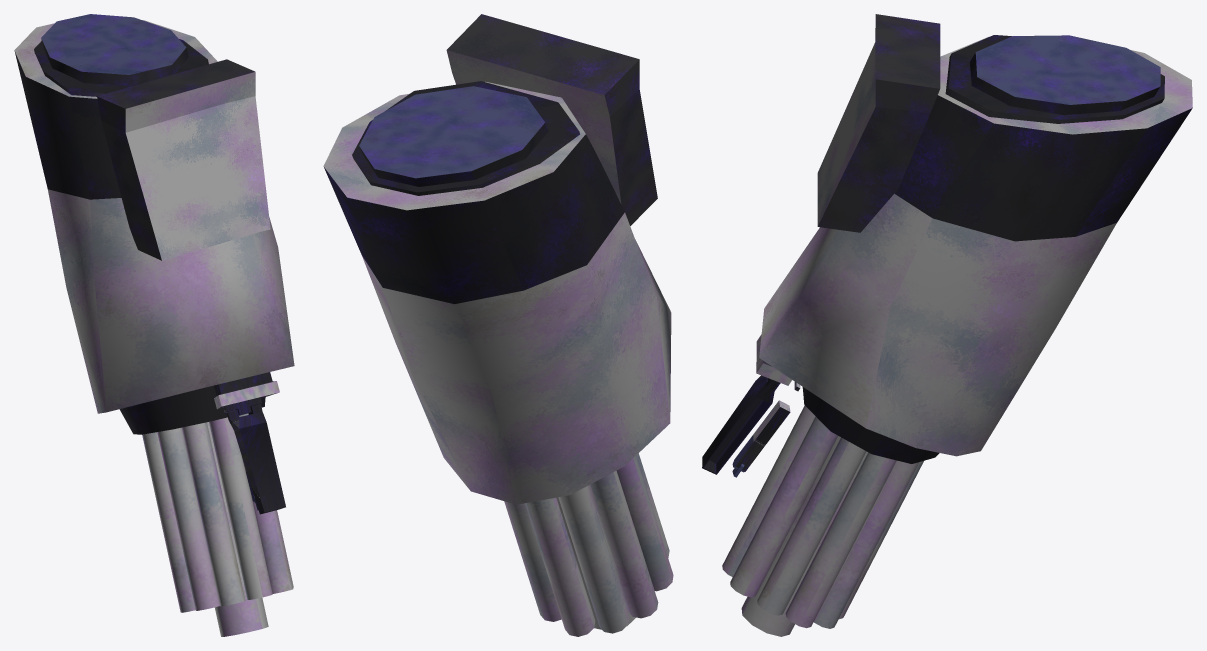
File: Minigun.fbx
3 views of the same model, side by side, from view 1: azimuth 30°, elevation 25°; view 2: azimuth 150°, elevation 25°; view 3: azimuth 270°, elevation 25° (orthographic). The views are drawn at different scales.
Parts seen in each view (by area): view 1: Missile Launcher, Missile Launcher.001; view 2: Missile Launcher, Missile Launcher.001; view 3: Missile Launcher, Missile Launcher.001.
Part boxes in pixels (<box>): Missile Launcher: <box>14,14,294,514</box>; Missile Launcher.001: <box>119,385,293,636</box>; Missile Launcher: <box>323,14,671,504</box>; Missile Launcher.001: <box>504,453,673,636</box>; Missile Launcher: <box>702,14,1192,477</box>; Missile Launcher.001: <box>722,387,939,636</box>.
Bounding box in the file's own units: 121 × 329 × 250.
